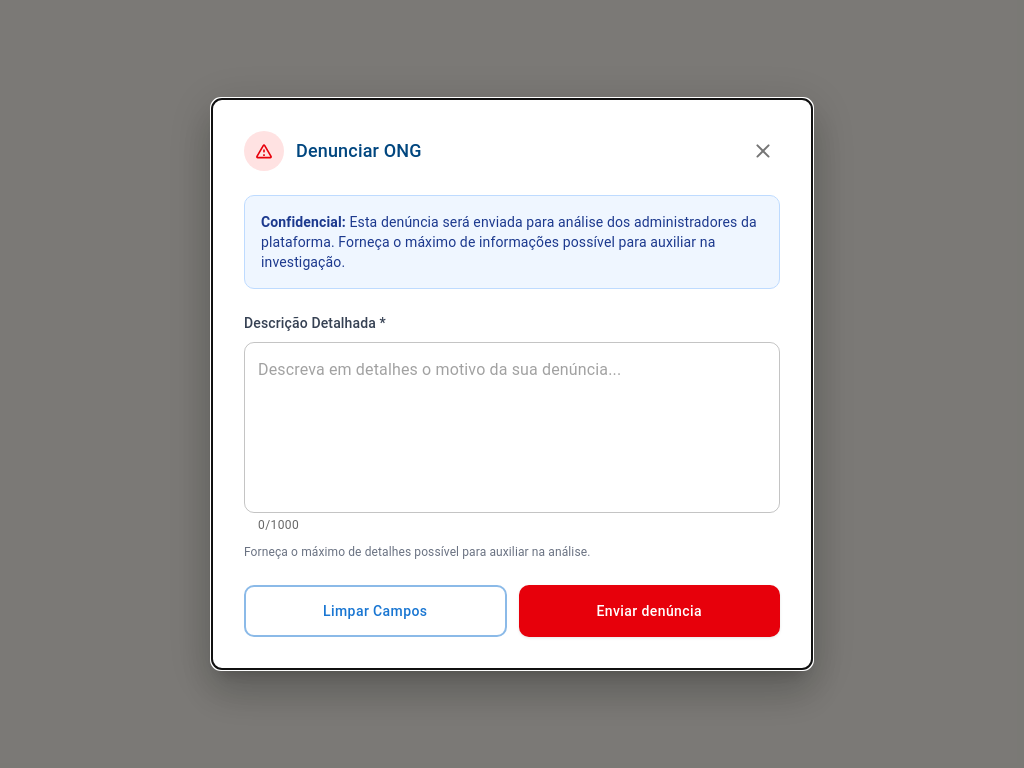
Test: ReportNpoModal › não envia quando o motivo é curto
This screenshot has width=1024, height=768.
Type "curto" into the text box named "Motivo da suspeita". click: (512, 427)
box: [258,358,766,496]
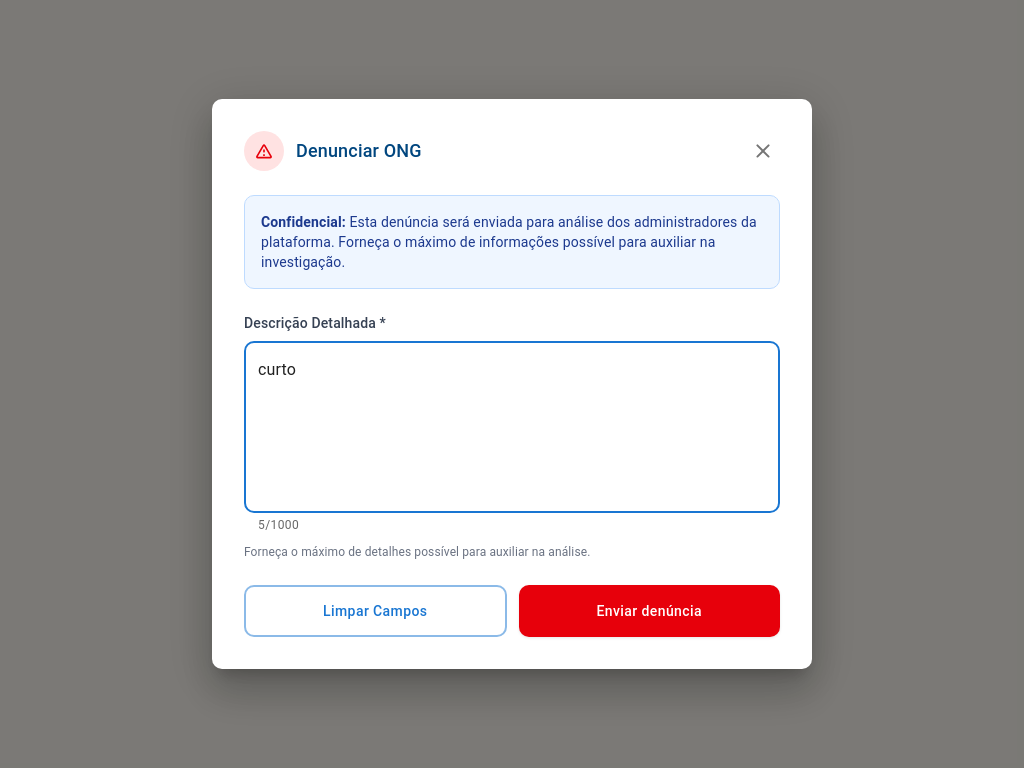
Click the button "Enviar denúncia". click: (649, 612)
box: [518,586,780,638]
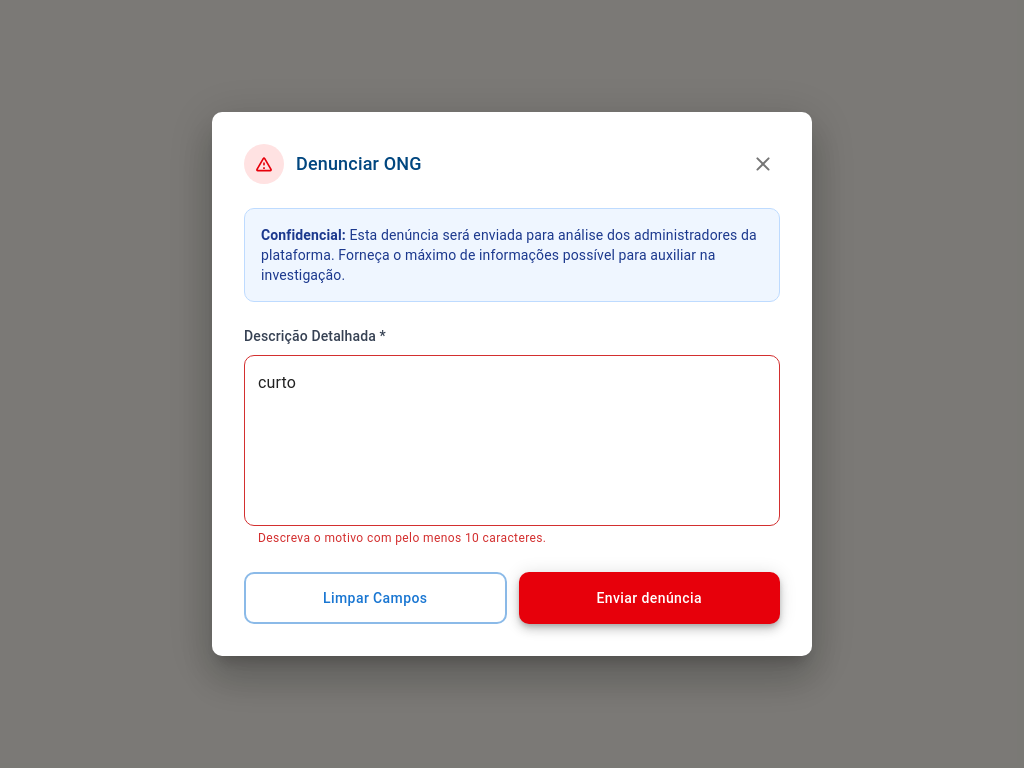
Check: the text "Descreva o motivo com pelo menos 10 caracteres." is shown, box [258,530,546,544]
